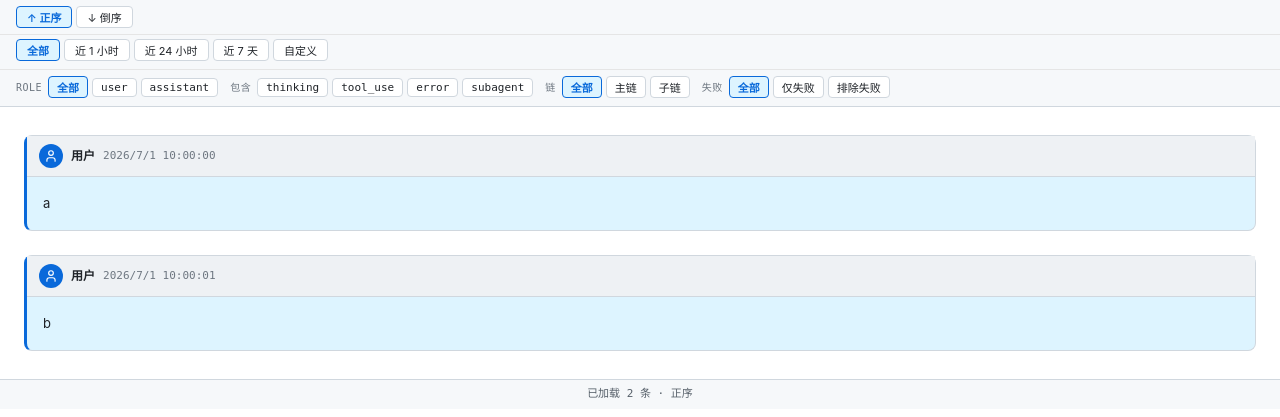
Scenario: TranscriptView — Sort toggle › 点击 sort-desc → footer 切到 '倒序'
The width and height of the screenshot is (1280, 417).
Click the button with test id "sort-desc": point(105, 17) top-left (76, 6), bottom-right (133, 28)
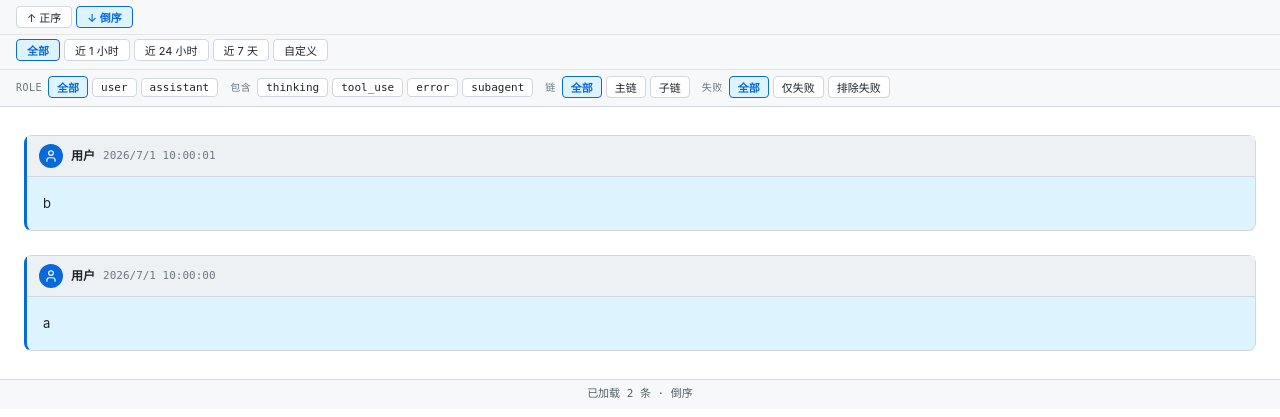
Expected: the footer with test id "transcript-footer" shows "倒序", top-left (587, 387), bottom-right (693, 400)
